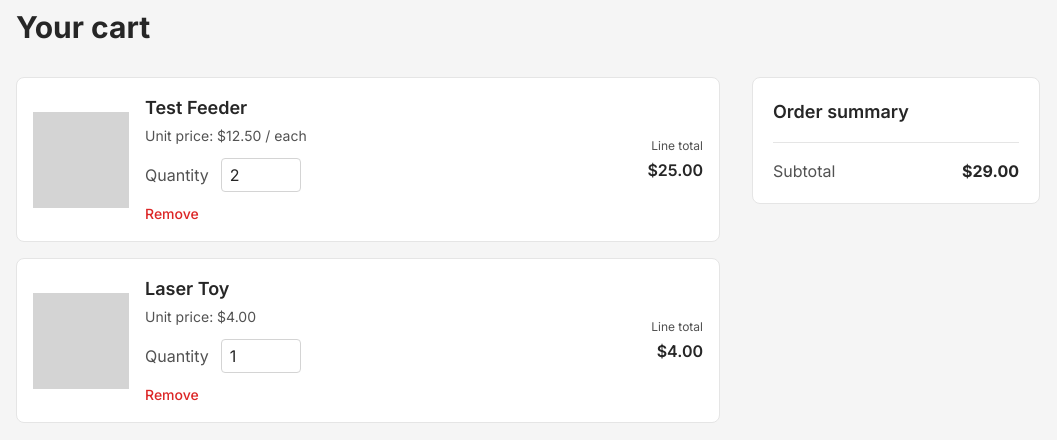
Test: Cart › updates line total and subtotal when a valid quantity is entered
The width and height of the screenshot is (1057, 440).
Replace the text in the number field named "Quantity of Test Feeder" with "3" at (261, 175), box [221, 158, 301, 192]
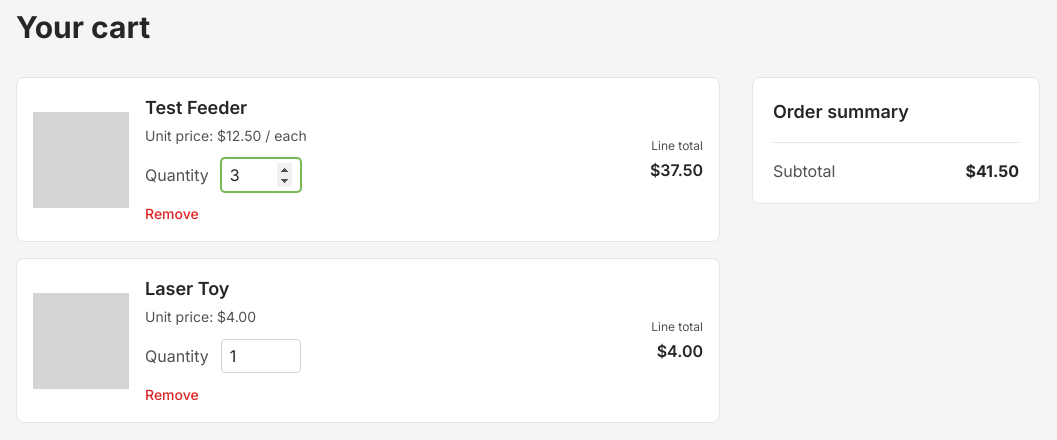
Check: the text "$37.50" is shown, box [650, 160, 703, 180]
Check: the text with test id "cart-subtotal" reads "$41.50", box [965, 161, 1019, 181]
